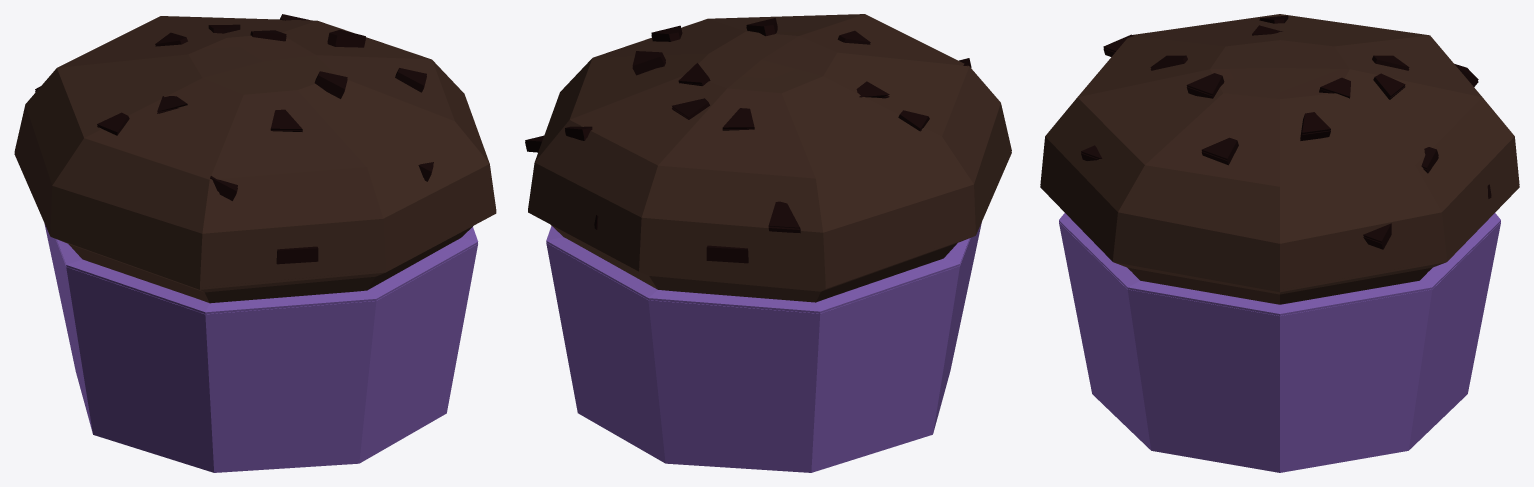
The model's file is cake.fbx.
3 views of the same model, side by side, from view 1: azimuth 30°, elevation 25°; view 2: azimuth 150°, elevation 25°; view 3: azimuth 270°, elevation 25° (orthographic). The views are drawn at different scales.
Parts seen in each view (by area): view 1: Cake, cake1, cake2; view 2: Cake, cake1, cake2; view 3: Cake, cake2.
Boxes of the visible parts, x1=… form: Cake: x1=14, y1=14, x2=496, y2=314; cake1: x1=14, y1=46, x2=385, y2=472; cake2: x1=285, y1=36, x2=496, y2=463; Cake: x1=525, y1=14, x2=1011, y2=313; cake1: x1=639, y1=44, x2=1011, y2=472; cake2: x1=525, y1=27, x2=777, y2=463; Cake: x1=1040, y1=14, x2=1519, y2=315; cake2: x1=1040, y1=83, x2=1519, y2=472.
Bounding box in the file's own units: 62.09 × 47.95 × 62.74.
